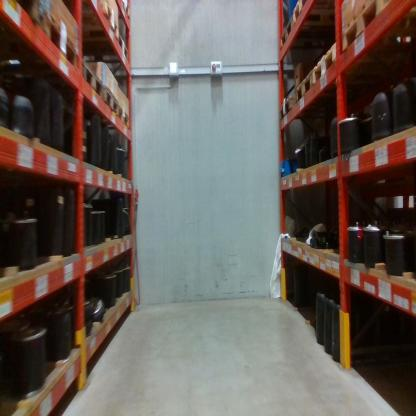pallet: (345, 3, 416, 62), (41, 6, 82, 81), (63, 2, 122, 38), (60, 34, 131, 58), (312, 35, 341, 91), (280, 18, 332, 49), (272, 85, 301, 129), (3, 5, 47, 33), (84, 54, 104, 105), (291, 4, 341, 24), (296, 67, 315, 114), (105, 81, 125, 124), (119, 106, 133, 132), (120, 1, 133, 16)
